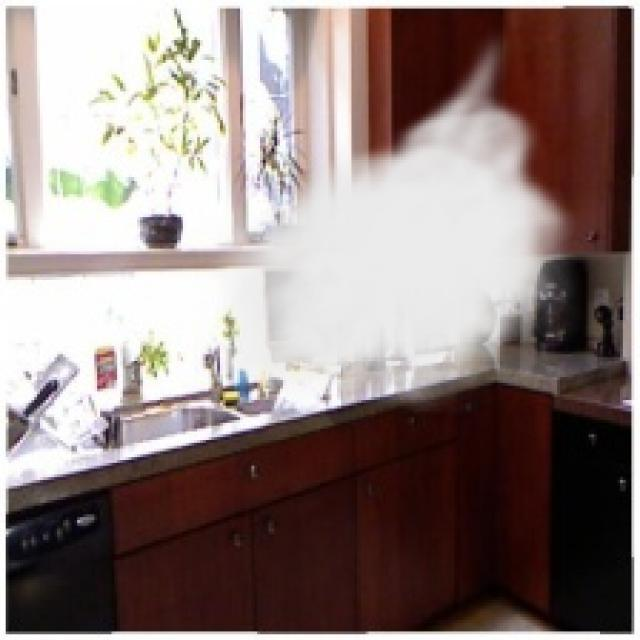Smoke: (194, 28, 583, 414)
